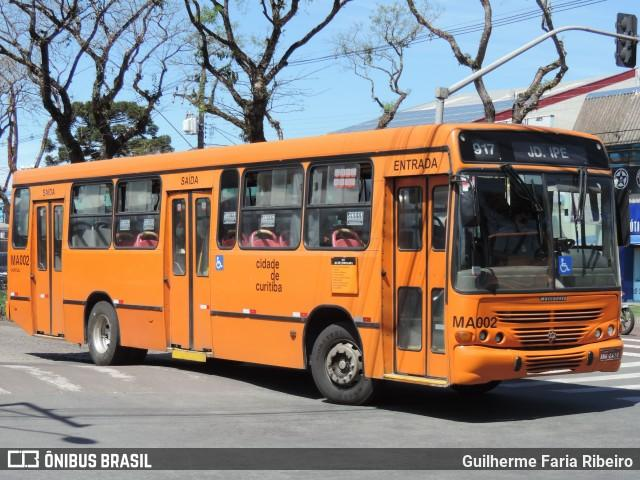JD IPE: (522, 142, 574, 165)
